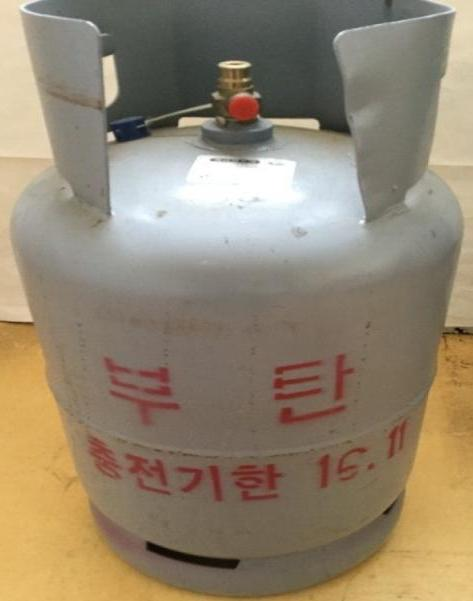cylinder: (1, 0, 473, 601)
